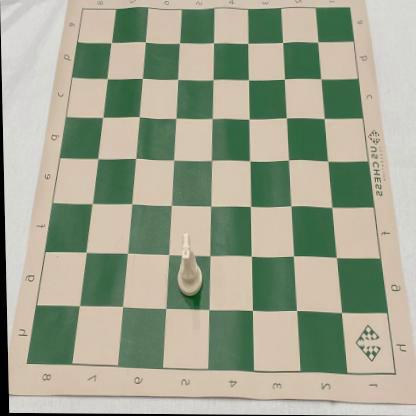white-knight: (174, 233, 202, 298)
